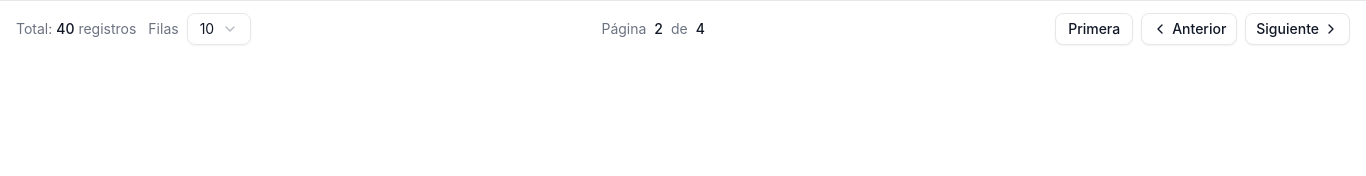
Test: PaginationControls › renders totalPages and the optional page-size selector
Later steps or results of the test are not shown.
Expected: the text "de" is shown, [671, 19, 688, 39]
Expected: the text "4" is shown, [696, 19, 705, 39]
Click the dropdown named "Filas por página".
click(219, 29)  # box [187, 13, 251, 45]
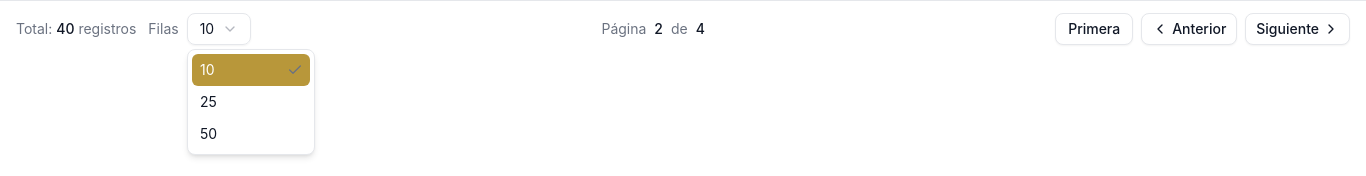
Result: the option "25" is shown at [200, 93, 217, 110]
